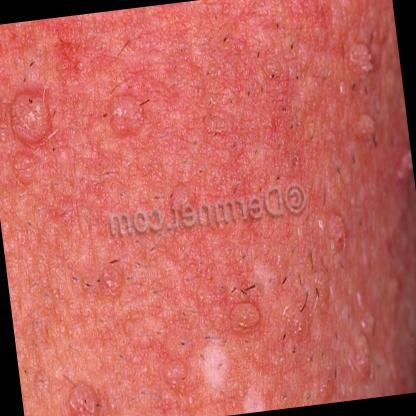Warts: (2, 78, 58, 156), (98, 82, 152, 140), (216, 292, 270, 340), (334, 31, 380, 82), (322, 201, 358, 263), (61, 371, 109, 416)
